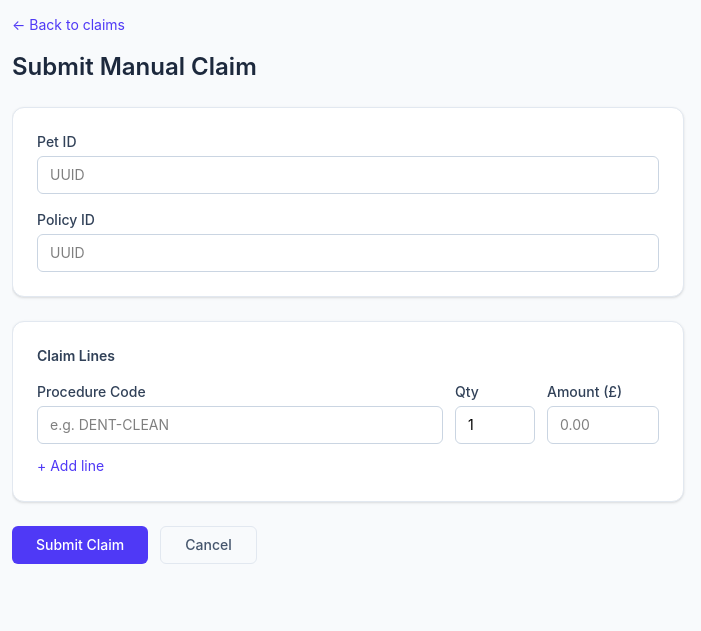
Scenario: NewClaim › adds an additional claim line
Expected: the number of fields with placeholder "e.g. DENT-CLEAN" is 1, [37,406,443,444]
Step 1. Click the button "+ Add line" → click(71, 466), box [37,456,104,476]
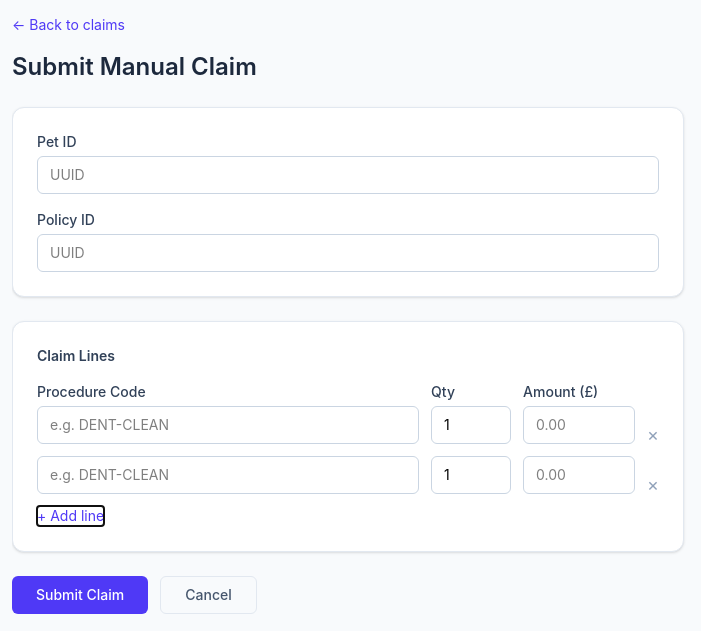
Expected: the number of fields with placeholder "e.g. DENT-CLEAN" is 2, [37,406,419,444]; [37,456,419,494]
